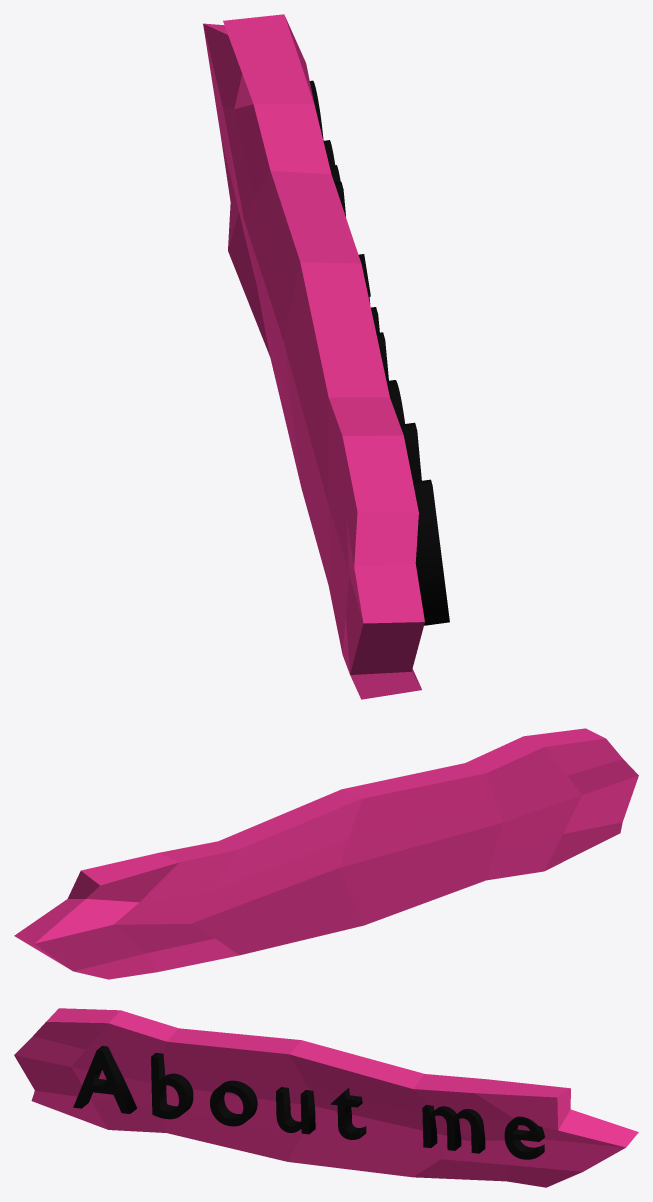
Rendered from aboutmetag.glb.
The picture shows the model from 3 angles, top to bottom: view 1: azimuth 30°, elevation 25°; view 2: azimuth 150°, elevation 25°; view 3: azimuth 270°, elevation 25°; orthographic projection. The views are drawn at different scales.
Visible parts, largest first — view 1: Plane.078, Text.004; view 2: Plane.078; view 3: Plane.078, Text.004.
Boxes of the visible parts, left/top/right/bottom form: Plane.078: left=203, top=14, right=424, bottom=699; Text.004: left=310, top=80, right=449, bottom=625; Plane.078: left=14, top=728, right=638, bottom=979; Plane.078: left=14, top=1008, right=638, bottom=1187; Text.004: left=73, top=1046, right=544, bottom=1159.
Size of the model in its own units: 0.1868 by 0.0817 by 0.4046.
